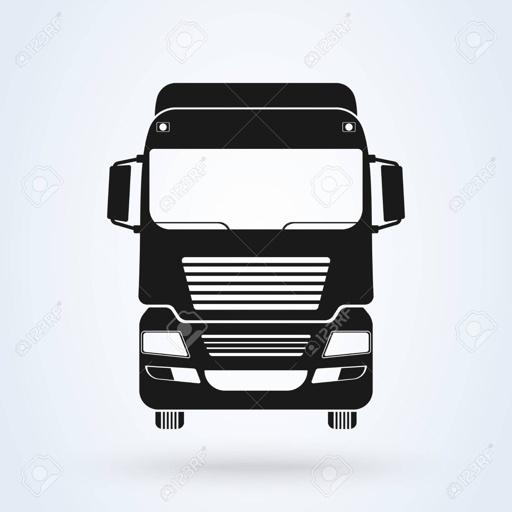truck: (103, 78, 409, 427)
